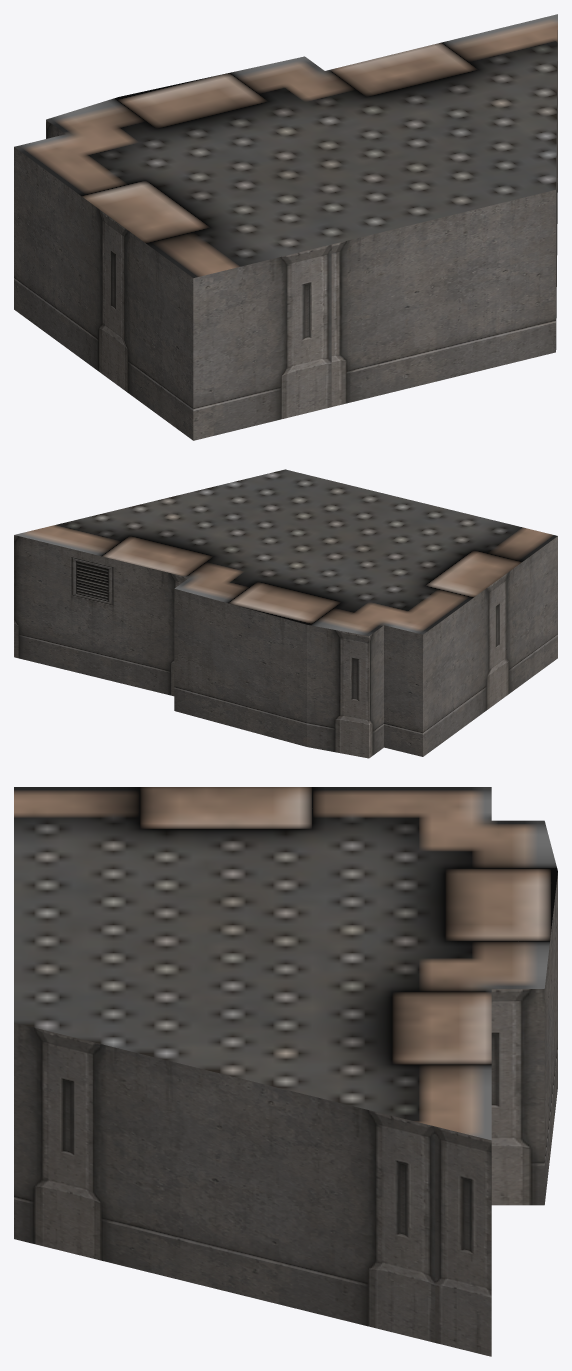
File: building_hard_a_12.glb
3 views of the same model, one above another, from view 1: azimuth 30°, elevation 25°; view 2: azimuth 150°, elevation 25°; view 3: azimuth 270°, elevation 25° (orthographic). The views are drawn at different scales.
Visible parts, largest first — view 1: buildings/saxarba/building_hard/building_hard_a_12; view 2: buildings/saxarba/building_hard/building_hard_a_12; view 3: buildings/saxarba/building_hard/building_hard_a_12.
Part boxes in pixels (bbox=[...]): buildings/saxarba/building_hard/building_hard_a_12: bbox=[14, 14, 557, 440]; buildings/saxarba/building_hard/building_hard_a_12: bbox=[14, 469, 557, 758]; buildings/saxarba/building_hard/building_hard_a_12: bbox=[14, 787, 557, 1356].
Size of the model in its own units: 63 by 18 by 41.
